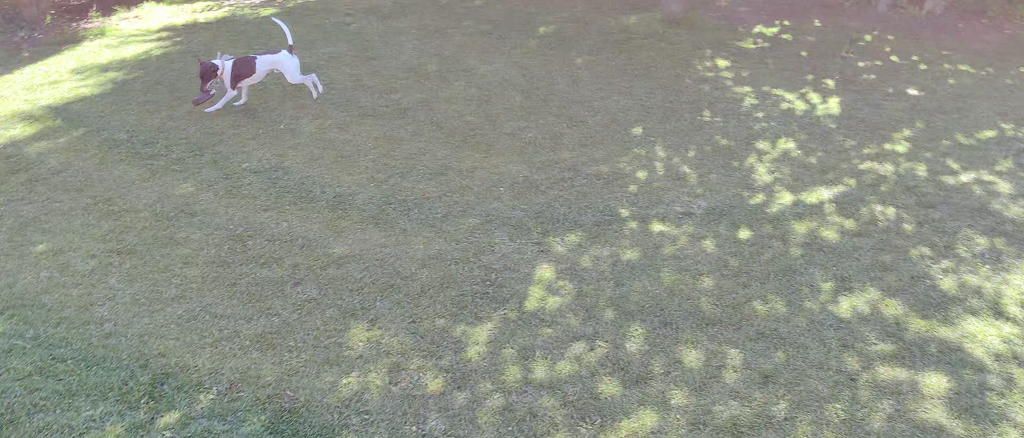Dog: (182, 11, 329, 125)
